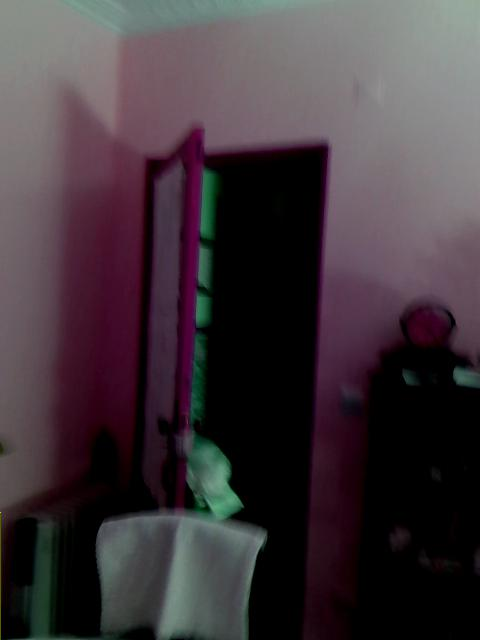semi_door: (130, 121, 331, 639)
